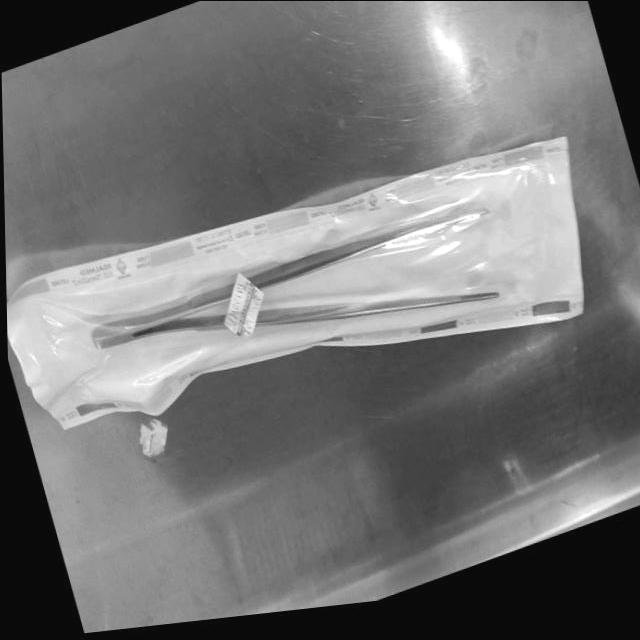General: (2, 1, 638, 634), (6, 132, 586, 437)
Sharps: (89, 207, 492, 348)
